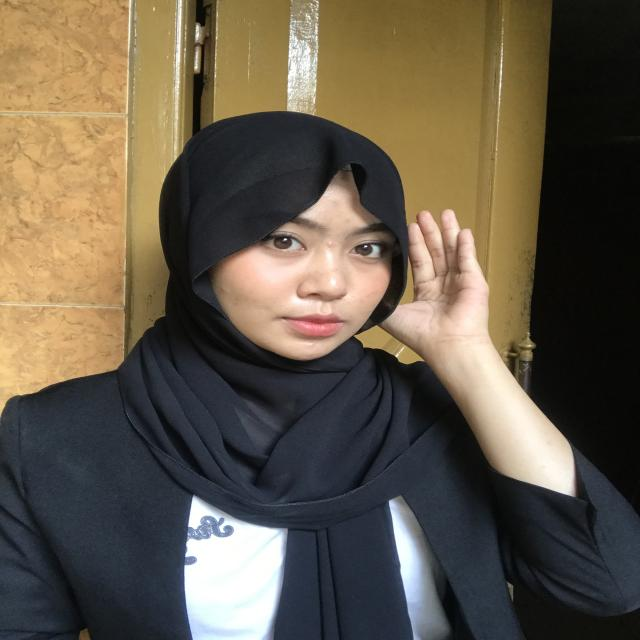mendengar: (392, 201, 516, 371)
